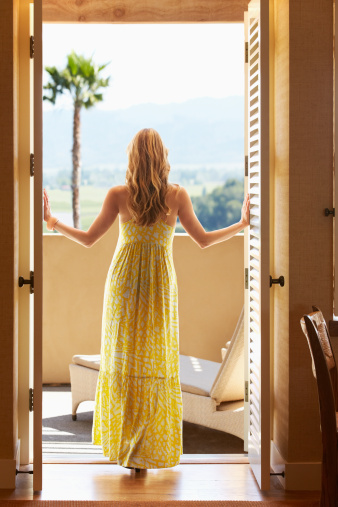em pe: (45, 120, 225, 460)
